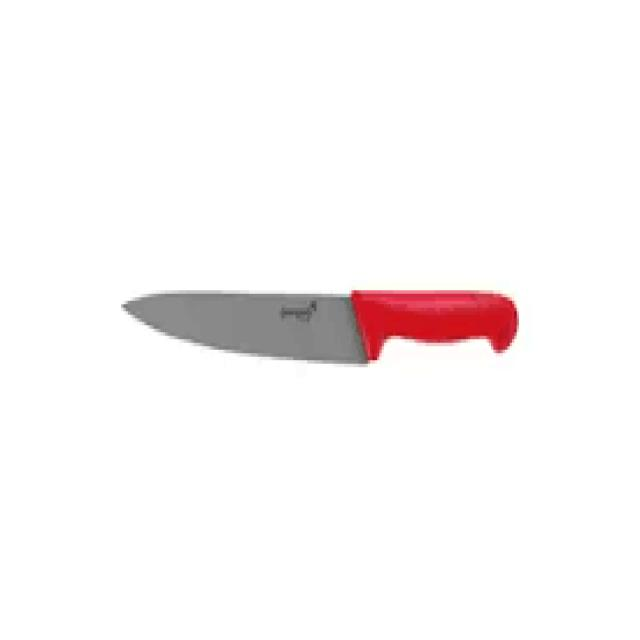Knife: (119, 286, 519, 364)
